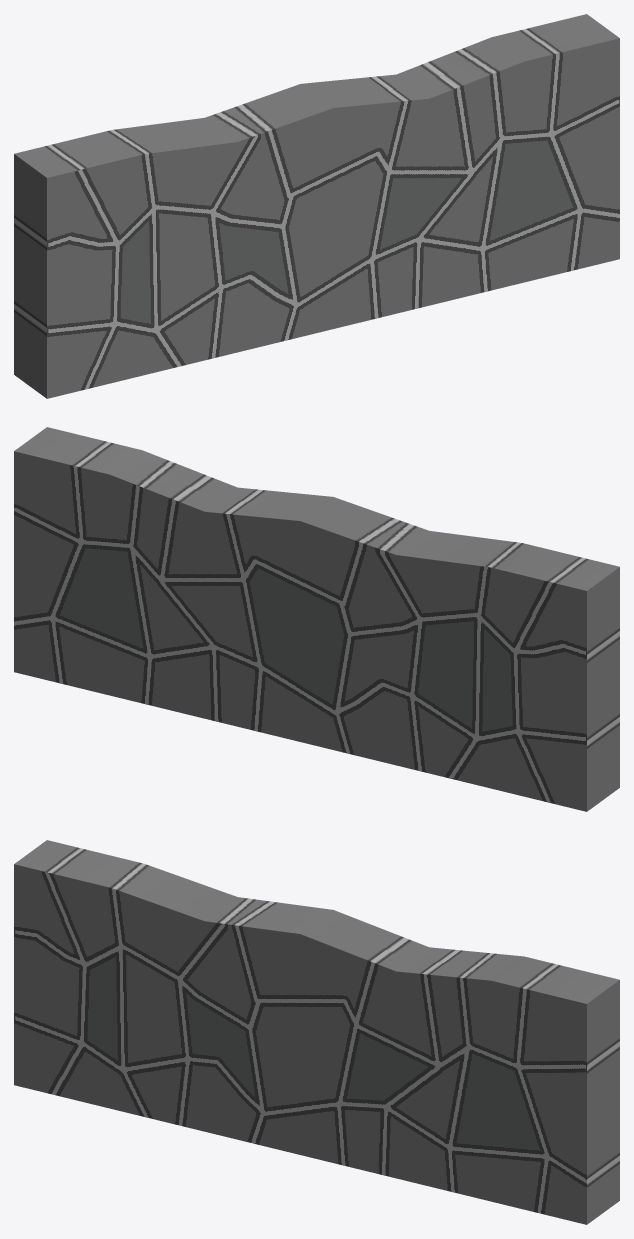
The model's file is wall.FBX.
The picture shows the model from 3 angles, top to bottom: view 1: azimuth 30°, elevation 25°; view 2: azimuth 150°, elevation 25°; view 3: azimuth 330°, elevation 25°; orthographic projection.
Visible parts, largest first — view 1: Box001; view 2: Box001; view 3: Box001.
Boxes of the visible parts, bbox=[...] form: Box001: bbox=[14, 14, 619, 398]; Box001: bbox=[14, 427, 619, 811]; Box001: bbox=[14, 840, 619, 1224].
Size of the model in its own units: 350 by 129 by 35.
1 material, 1 textured.
